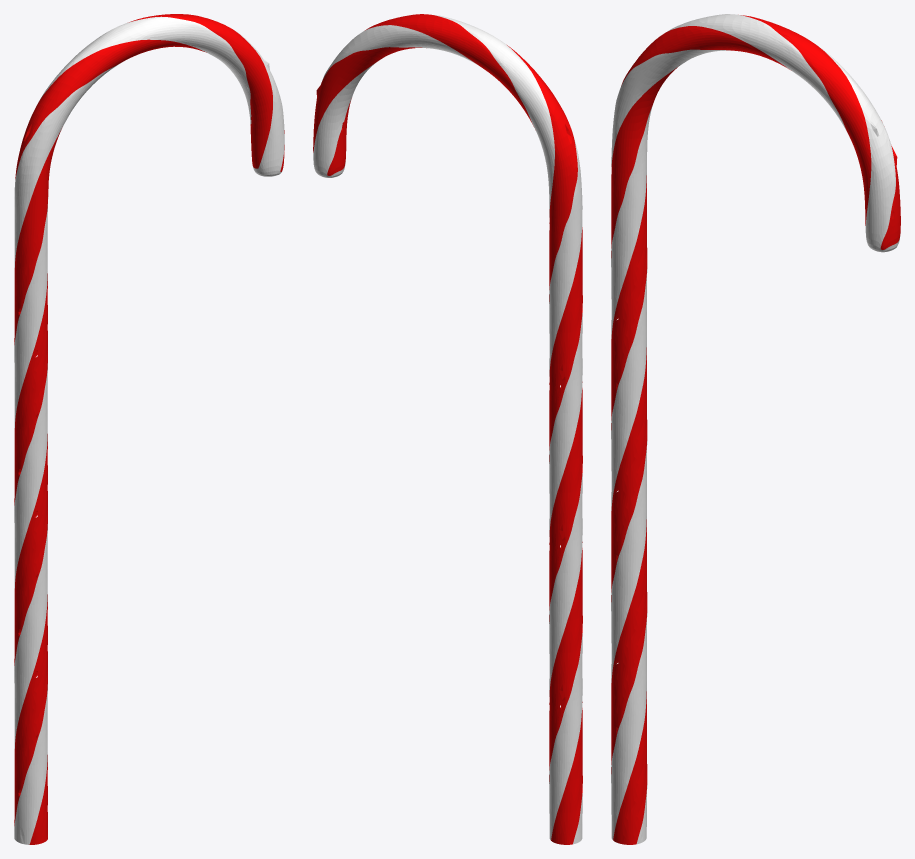
File: 33a9f3d2-ffe0-490b-a13b-20e9a6e9f290.glb
3 renders of one model, left to right at view 1: azimuth 30°, elevation 25°; view 2: azimuth 150°, elevation 25°; view 3: azimuth 330°, elevation 25°, orthographic. The views are drawn at different scales.
Parts seen in each view (by area): view 1: Candy_Cane; view 2: Candy_Cane; view 3: Candy_Cane.
Part boxes in pixels (x1,y1,x2,y2): Candy_Cane: [14, 14, 284, 844]; Candy_Cane: [313, 14, 582, 844]; Candy_Cane: [611, 14, 900, 844].
Size of the model in its own units: 67.73 by 193 by 7.51.
